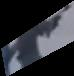gun: (1, 0, 74, 76)
